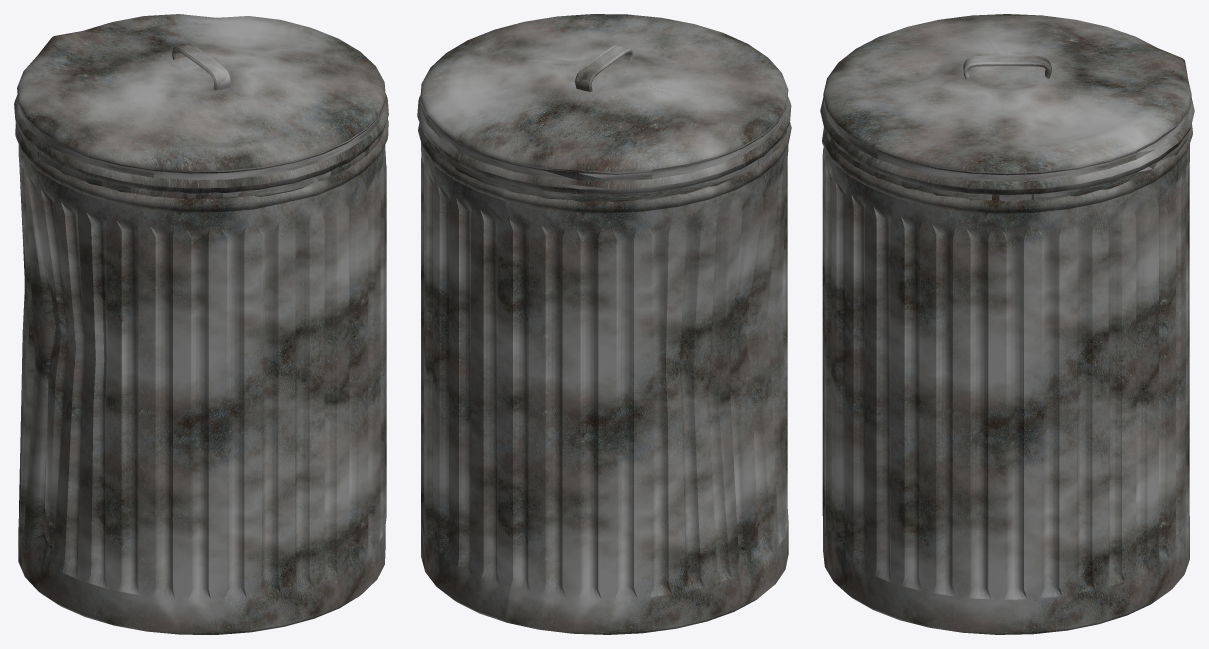
3 views of the same model, side by side, from view 1: azimuth 30°, elevation 25°; view 2: azimuth 150°, elevation 25°; view 3: azimuth 270°, elevation 25° (orthographic).
Visible parts, largest first — view 1: Object_2; view 2: Object_2; view 3: Object_2.
Part boxes in pixels (x1,y1,x2,y2): Object_2: (14, 14, 388, 634); Object_2: (417, 14, 791, 634); Object_2: (820, 14, 1194, 634).
Size of the model in its own units: 328 by 484 by 328.
Materials: 1 (1 with a texture image).
